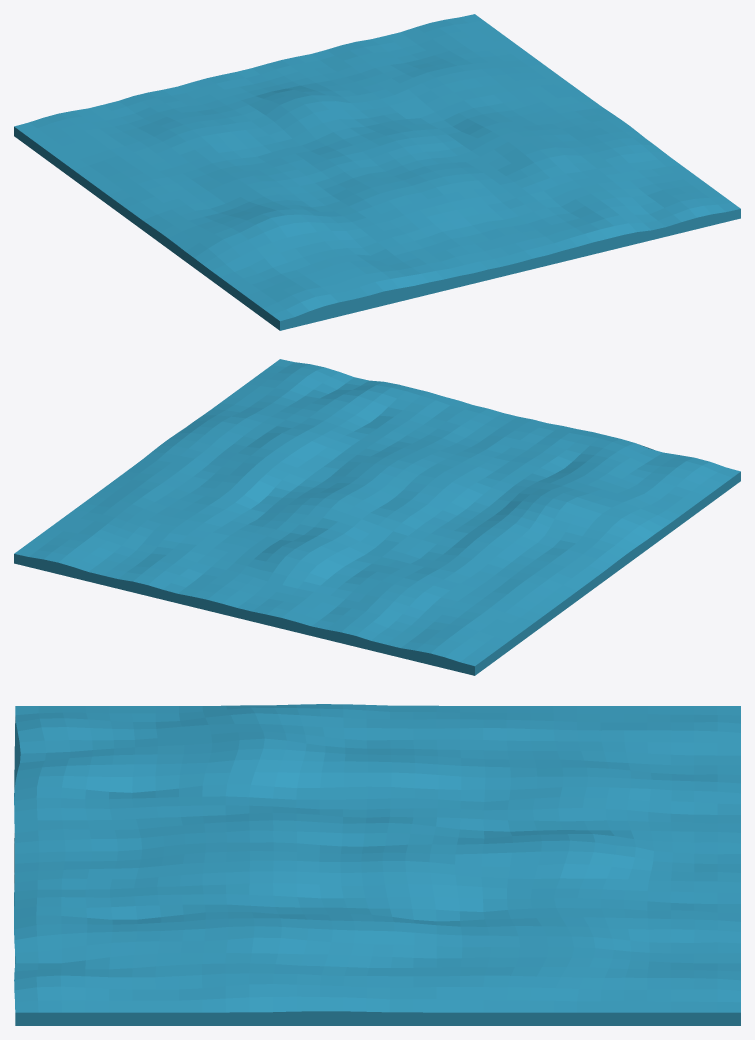
File: tile_water_1.fbx
3 renders of one model, top to bottom at view 1: azimuth 30°, elevation 25°; view 2: azimuth 150°, elevation 25°; view 3: azimuth 270°, elevation 25°, orthographic. The views are drawn at different scales.
Parts seen in each view (by area): view 1: Cube; view 2: Cube; view 3: Cube.
Part boxes in pixels (x1=…): Cube: x1=14, y1=14, x2=740, y2=330; Cube: x1=14, y1=359, x2=740, y2=675; Cube: x1=14, y1=704, x2=740, y2=1025.
Size of the model in its own units: 100 by 5.37 by 100.
